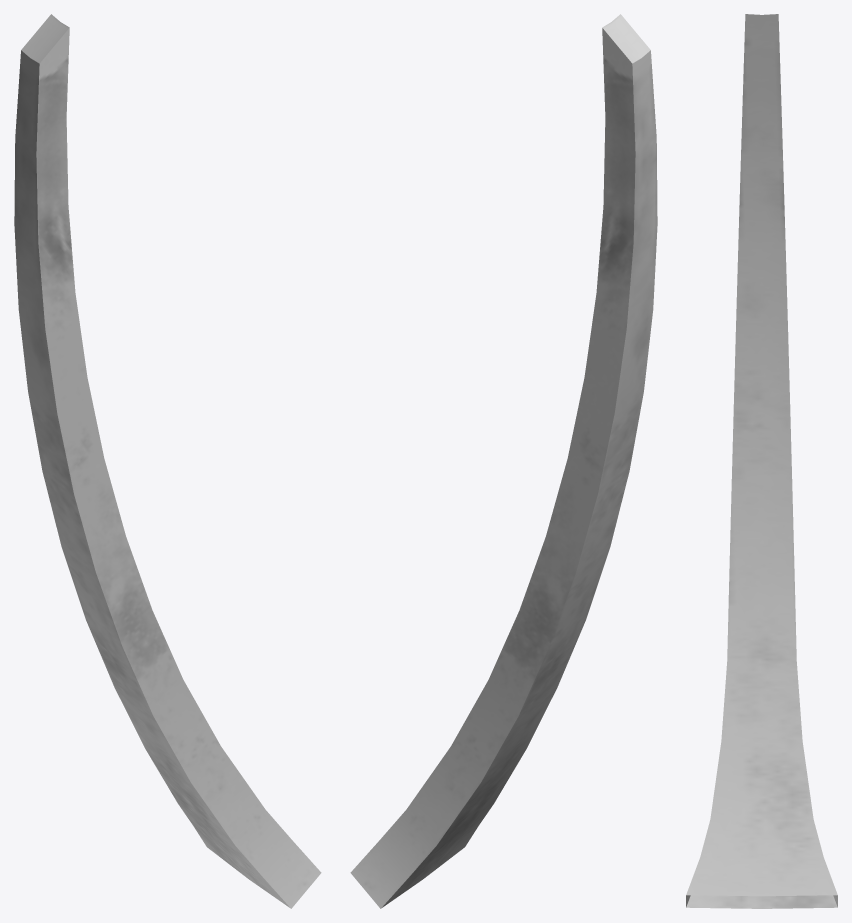
File: f3_colider.fbx
3 renders of one model, left to right at view 1: azimuth 30°, elevation 25°; view 2: azimuth 150°, elevation 25°; view 3: azimuth 270°, elevation 25°, orthographic. The views are drawn at different scales.
Visible parts, largest first — view 1: f1.002; view 2: f1.002; view 3: f1.002.
Part boxes in pixels (x1,y1,x2,y2): f1.002: (14,14,321,908); f1.002: (350,14,657,908); f1.002: (686,14,837,908).
Size of the model in its own units: 23.67 by 80.69 by 13.66.
